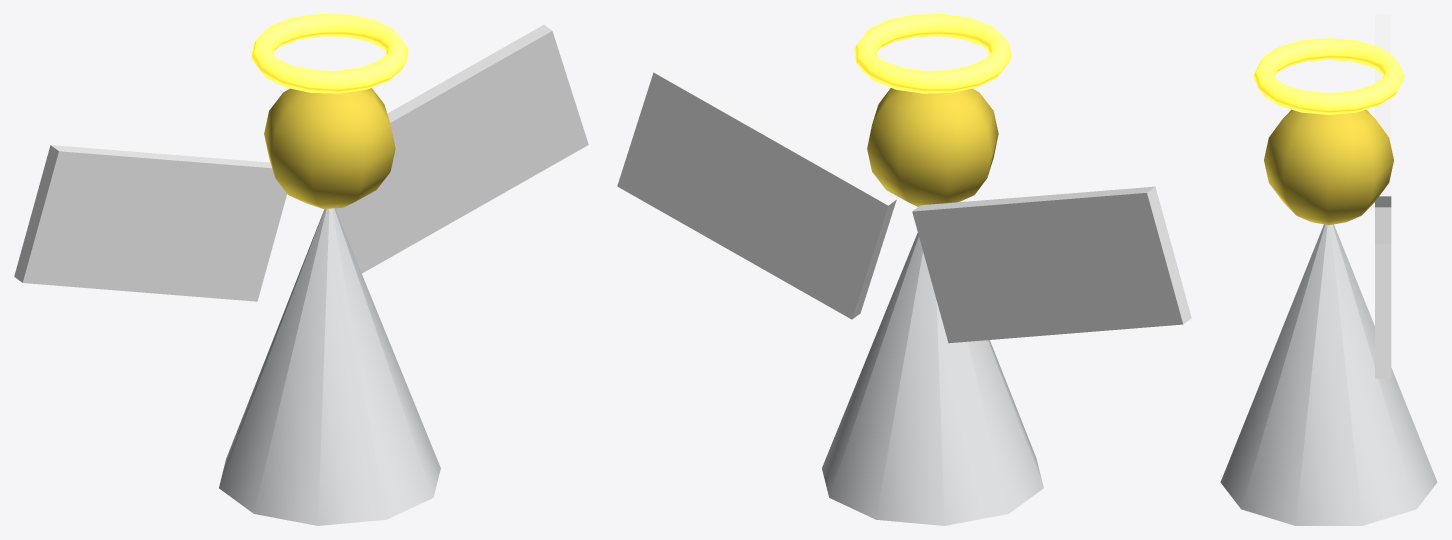
File: pet_guardian_angel.glb
3 renders of one model, left to right at view 1: azimuth 30°, elevation 25°; view 2: azimuth 150°, elevation 25°; view 3: azimuth 270°, elevation 25°, orthographic. The views are drawn at different scales.
Parts seen in each view (by area): view 1: PET_GUARDIAN_ANGEL; view 2: PET_GUARDIAN_ANGEL; view 3: PET_GUARDIAN_ANGEL.
Boxes of the visible parts, <box> form: PET_GUARDIAN_ANGEL: <box>14,14,588,525</box>; PET_GUARDIAN_ANGEL: <box>617,14,1191,525</box>; PET_GUARDIAN_ANGEL: <box>1220,14,1437,525</box>.
Size of the model in its own units: 1.15 by 0.8423 by 0.4.
